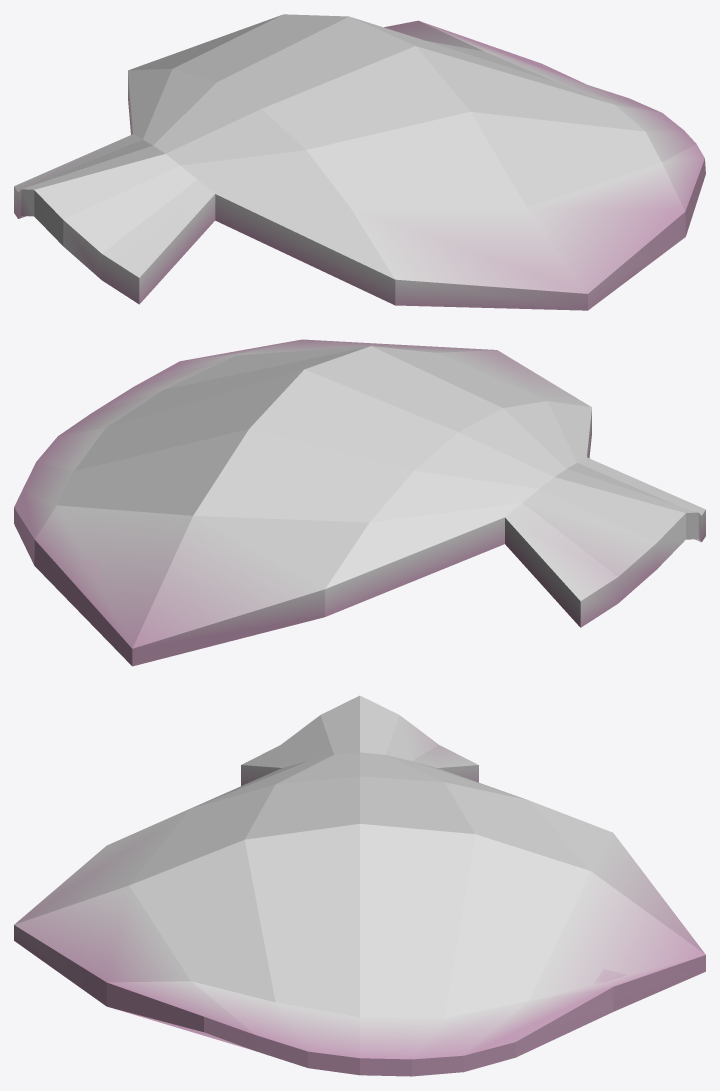
File: Clamshell.fbx
3 renders of one model, top to bottom at view 1: azimuth 30°, elevation 25°; view 2: azimuth 150°, elevation 25°; view 3: azimuth 270°, elevation 25°, orthographic. The views are drawn at different scales.
Parts seen in each view (by area): view 1: Clamshell; view 2: Clamshell; view 3: Clamshell.
Boxes of the visible parts, x1,y1,x2,y2 form: Clamshell: (14,14,705,310); Clamshell: (14,339,705,666); Clamshell: (14,695,705,1076).
Size of the model in its own units: 885 by 217 by 891.
